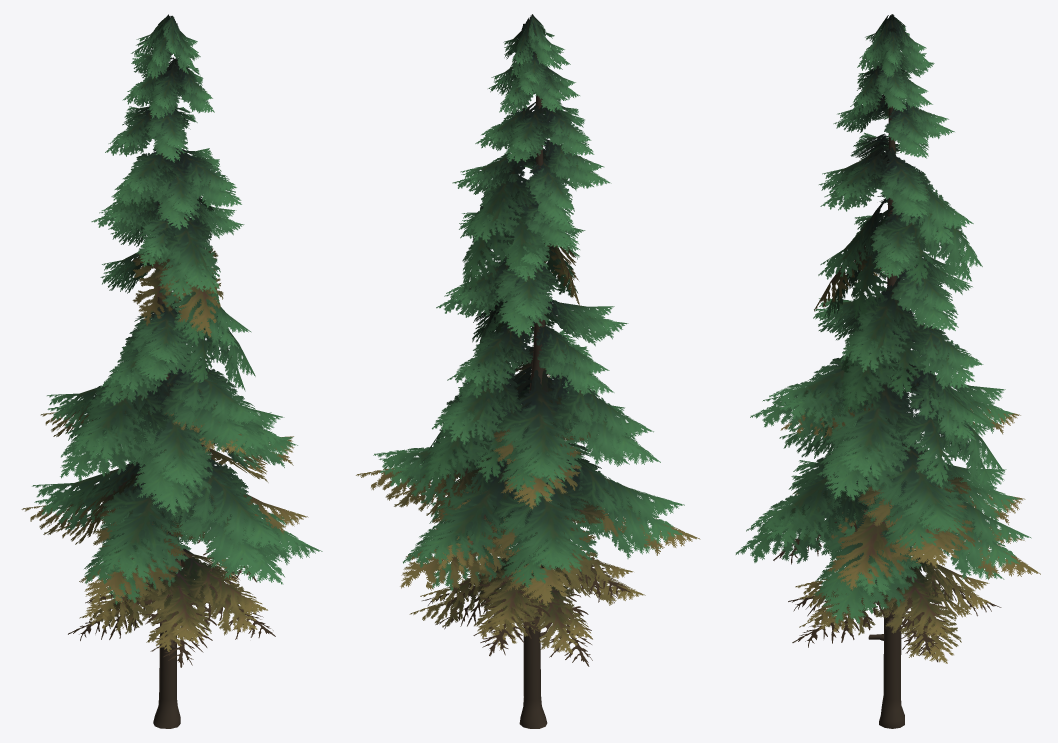
The model's file is Fir_Bl+Ñ.L.B.Y2.fbx.
The picture shows the model from 3 angles, left to right: view 1: azimuth 30°, elevation 25°; view 2: azimuth 150°, elevation 25°; view 3: azimuth 270°, elevation 25°; orthographic projection.
Parts seen in each view (by area): view 1: Fir_Blå_L_B_Y2; view 2: Fir_Blå_L_B_Y2; view 3: Fir_Blå_L_B_Y2.
Boxes of the visible parts, left/top/right/bottom form: Fir_Blå_L_B_Y2: left=21, top=14, right=322, bottom=728; Fir_Blå_L_B_Y2: left=356, top=14, right=700, bottom=728; Fir_Blå_L_B_Y2: left=735, top=14, right=1040, bottom=728.
Size of the model in its own units: 659 by 1547 by 617.
